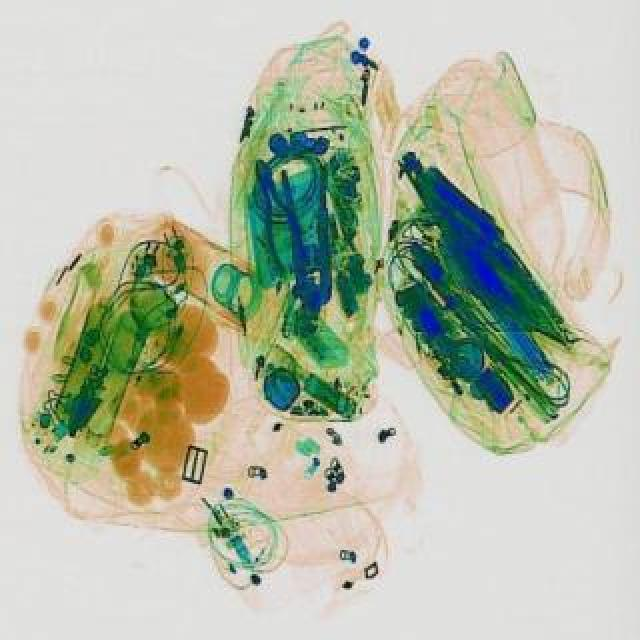wrench: (282, 162, 342, 308)
